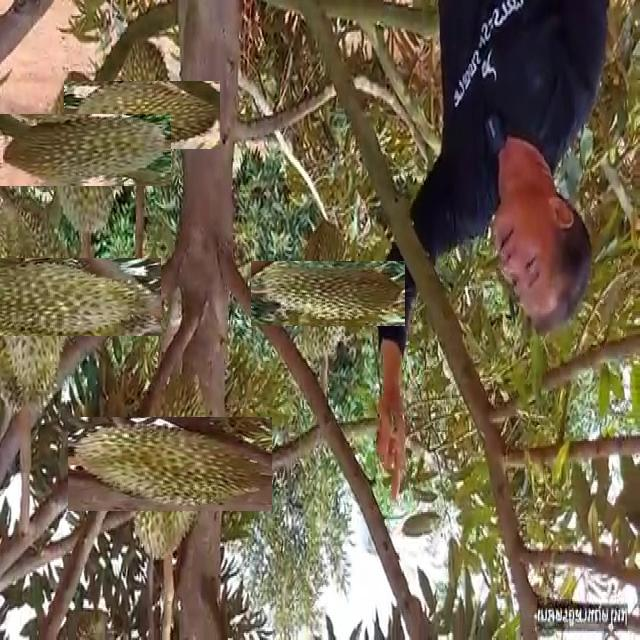durian: (96, 389, 245, 538), (0, 217, 120, 377), (18, 87, 144, 213), (86, 59, 199, 171), (273, 239, 383, 349)
